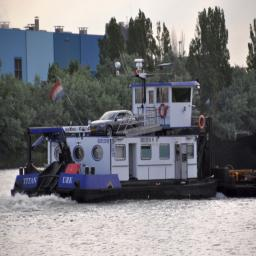tugboat: (9, 57, 223, 207)
